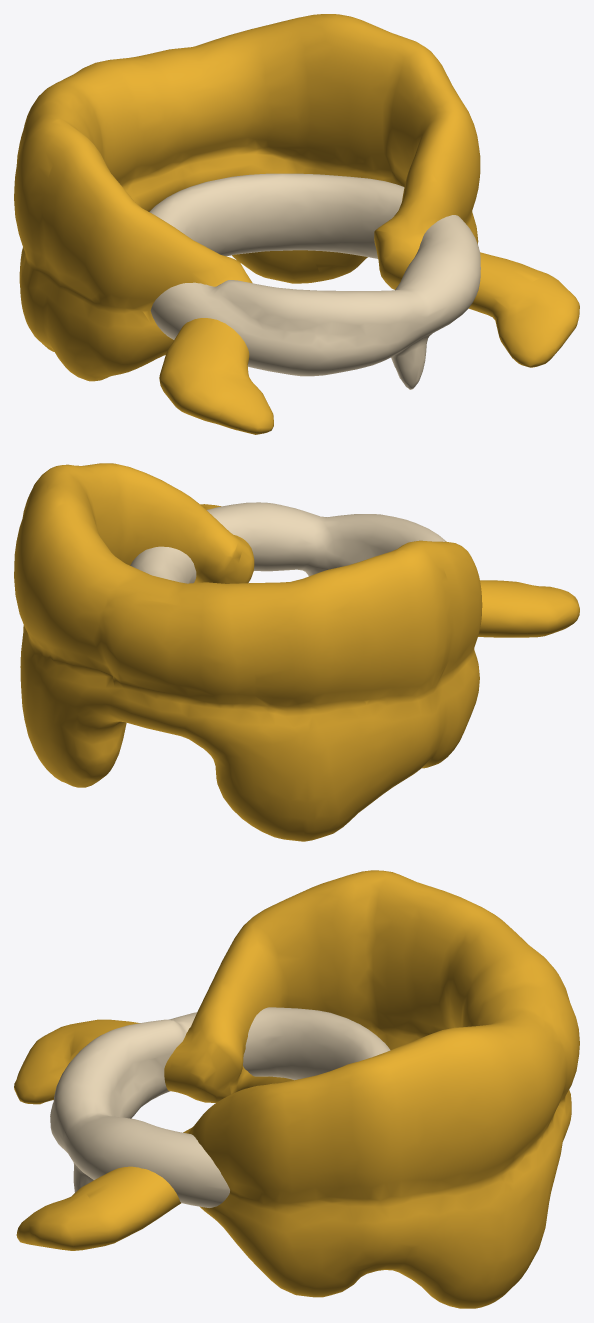
File: collar_packet_v004.glb
3 renders of one model, top to bottom at view 1: azimuth 30°, elevation 25°; view 2: azimuth 150°, elevation 25°; view 3: azimuth 270°, elevation 25°, orthographic. The views are drawn at different scales.
Parts seen in each view (by area): view 1: SCULPT_HOOD, SCULPT_SCARF; view 2: SCULPT_HOOD, SCULPT_SCARF; view 3: SCULPT_HOOD, SCULPT_SCARF.
Boxes of the visible parts, <box> form: SCULPT_HOOD: <box>14,14,579,434</box>; SCULPT_SCARF: <box>149,173,480,389</box>; SCULPT_HOOD: <box>14,463,579,841</box>; SCULPT_SCARF: <box>130,502,445,583</box>; SCULPT_HOOD: <box>14,870,579,1308</box>; SCULPT_SCARF: <box>50,1007,390,1207</box>.
Bounding box in the file's own units: 0.2312 × 0.1438 × 0.2558.
